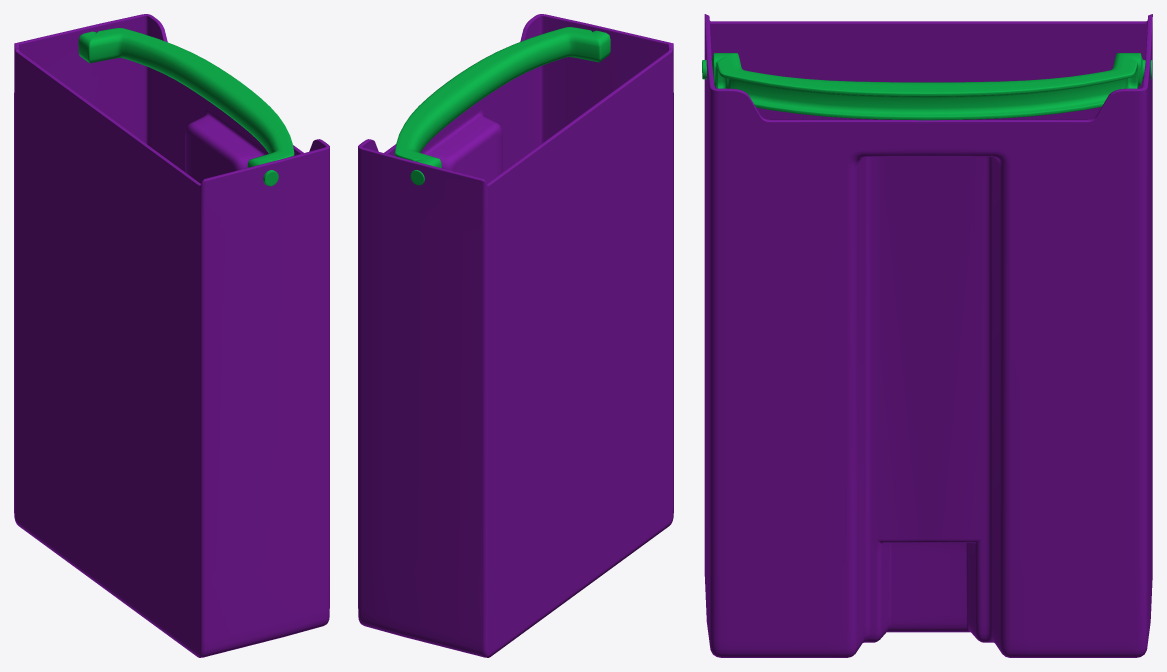
File: SM_Kaffeemaschine_Wasserbehaelter.fbx
3 views of the same model, side by side, from view 1: azimuth 30°, elevation 25°; view 2: azimuth 150°, elevation 25°; view 3: azimuth 270°, elevation 25° (orthographic). The views are drawn at different scales.
Parts seen in each view (by area): view 1: SM_Kaffeemaschine_Wasserbehaelter; view 2: SM_Kaffeemaschine_Wasserbehaelter; view 3: SM_Kaffeemaschine_Wasserbehaelter.
Part boxes in pixels (x1,y1,x2,y2): SM_Kaffeemaschine_Wasserbehaelter: [14, 14, 329, 657]; SM_Kaffeemaschine_Wasserbehaelter: [358, 14, 673, 657]; SM_Kaffeemaschine_Wasserbehaelter: [702, 14, 1152, 657].
Bounding box in the file's own units: 7.62 × 26.22 × 18.77.
